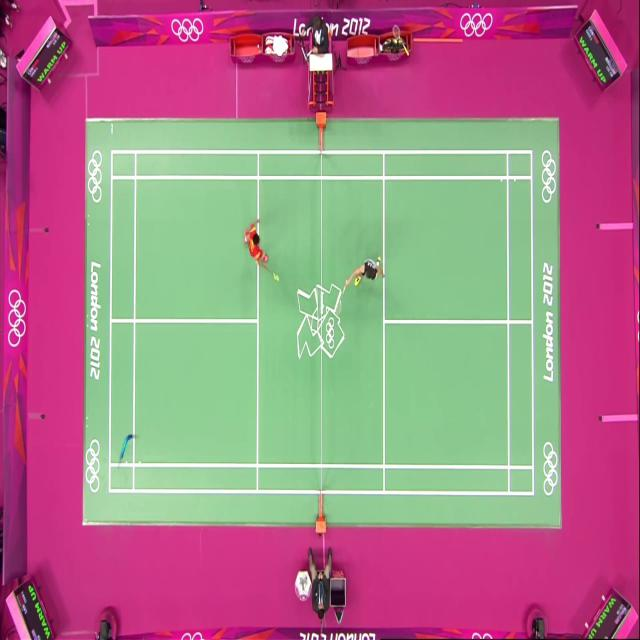Net: (312, 115, 332, 542)
Player1: (353, 205, 403, 294)
Player2: (238, 202, 284, 300)
